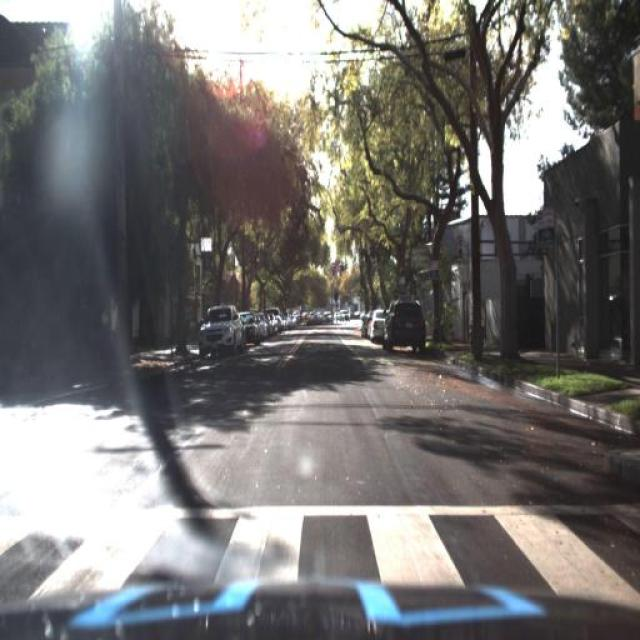car: (198, 300, 244, 360), (382, 298, 429, 353), (383, 298, 425, 347), (366, 307, 384, 343)
